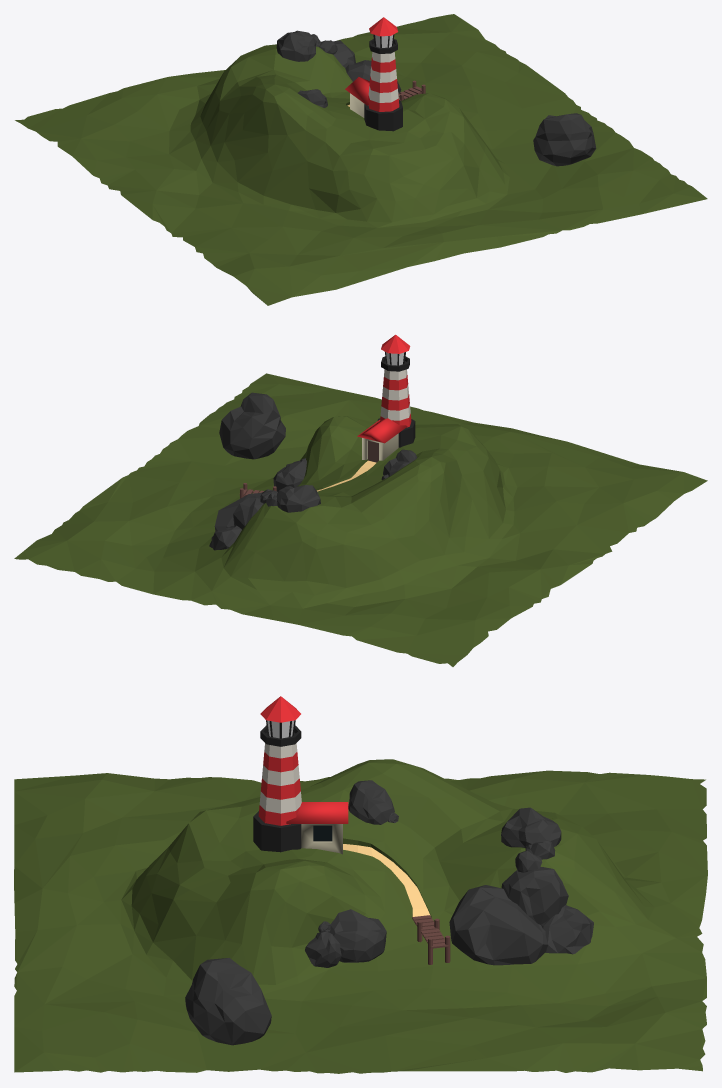
Rendered from lighthouse_island.glb.
3 renders of one model, top to bottom at view 1: azimuth 30°, elevation 25°; view 2: azimuth 150°, elevation 25°; view 3: azimuth 270°, elevation 25°, orthographic. The views are drawn at different scales.
Parts seen in each view (by area): view 1: Plane, Cube.010, Cylinder.001, Cube.007, Cylinder, Cube.001; view 2: Plane, Cube.010, Cylinder.001, Cube.001, Cube.007, Cube, Cube.006, Cube.003, Cube.004; view 3: Plane, Cube.003, Cube.010, Cylinder.001, Cube.006, Cube.001, Cube, Cube.004, Cube.007, Cube.011, Cylinder, Cube.002 (+1 smaller).
Part boxes in pixels (box(x1,y1,x2,y2)): Plane: box(15, 14, 707, 305); Cube.010: box(533, 113, 596, 166); Cylinder.001: box(368, 17, 399, 111); Cube.007: box(276, 30, 316, 61); Cylinder: box(364, 100, 402, 131); Cube.001: box(345, 77, 369, 117); Plane: box(14, 373, 707, 666); Cube.010: box(219, 392, 285, 459); Cylinder.001: box(380, 334, 411, 427); Cube.001: box(357, 418, 407, 462); Cube.007: box(276, 485, 320, 512); Cube: box(273, 460, 306, 491); Cube.006: box(233, 495, 263, 529); Cube.003: box(214, 489, 277, 531); Cube.004: box(209, 525, 241, 550); Plane: box(14, 759, 707, 1073); Cube.003: box(449, 885, 548, 965); Cube.010: box(185, 958, 271, 1045); Cylinder.001: box(258, 696, 301, 825); Cube.006: box(501, 867, 568, 924); Cube.001: box(286, 802, 348, 854); Cube: box(329, 909, 386, 962); Cube.004: box(541, 905, 593, 954); Cube.007: box(501, 807, 561, 847); Cube.011: box(348, 780, 394, 824); Cylinder: box(253, 811, 301, 852); Cube.002: box(305, 931, 341, 967).
Size of what is drawn, in the model's own units: 501 by 198 by 501.
